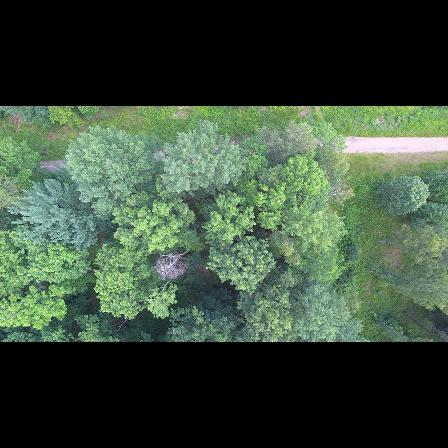Dead: (153, 246, 192, 283)
